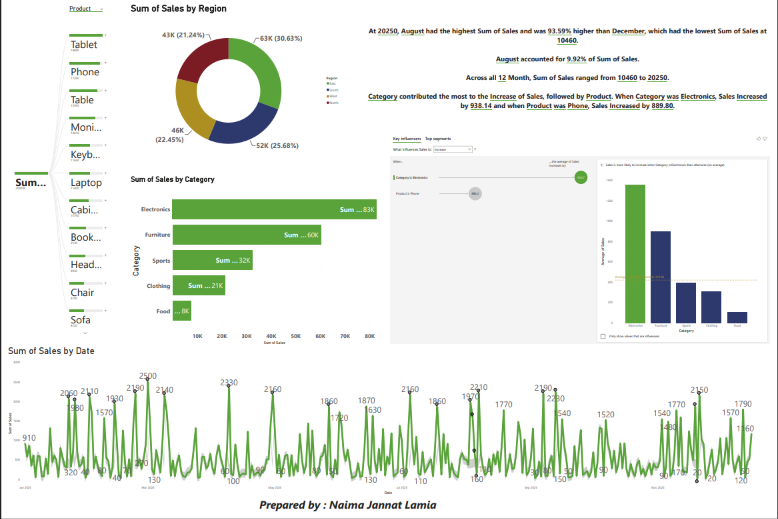

The dashboard page shown, as its layout file describes it:
{"tool":"powerbi","page":{"name":"AI Dashboard","canvas":[3000,2000],"ordinal":0},"visuals":[{"type":"keyDriversVisual","fields":{"Target":["SalesData.Sales"],"ExplainBy":["SalesData.Category","SalesData.Product","SalesData.Region","SalesData.Customer Segment"]},"box":[1497.8,508.3,1500,835],"z":0},{"type":"clusteredBarChart","fields":{"Category":["SalesData.Category"],"Y":["Sum(SalesData.Sales)"]},"box":[481.3,674.7,994,670.2],"z":1000},{"type":"lineChart","fields":{"Y":["Sum(SalesData.Sales)"],"Category":["SalesData.Date"]},"box":[0,1344.8,2950.6,589.2],"z":2000},{"type":"donutChart","fields":{"Category":["SalesData.Region"],"Y":["Sum(SalesData.Sales)"]},"box":[481.3,0,841.1,638.7],"z":3000},{"type":"textbox","box":[1398.8,85.5,1601.2,422.8],"z":4000},{"type":"decompositionTreeVisual","fields":{"Analyze":["Sum(SalesData.Sales)"],"ExplainBy":["SalesData.Product","SalesData.Category","SalesData.Region"]},"box":[0,0,481.3,1344.9],"z":5000},{"type":"textbox","box":[427.3,1934.1,1821.6,67.5],"z":6000}]}

Visuals, with their boxes in screenshot pixels (x1, y1, x2, y2), scaled from the page's 3000x2000 canvas onto the 778x519 screenshot:
keyDriversVisual - SalesData.Sales x SalesData.Category: bbox(388, 132, 777, 349)
clusteredBarChart - SalesData.Category x Sum(SalesData.Sales): bbox(125, 175, 383, 349)
lineChart - Sum(SalesData.Sales) x SalesData.Date: bbox(0, 349, 765, 502)
donutChart - SalesData.Region x Sum(SalesData.Sales): bbox(125, 0, 343, 166)
textbox: bbox(363, 22, 777, 132)
decompositionTreeVisual - Sum(SalesData.Sales) x SalesData.Product: bbox(0, 0, 125, 349)
textbox: bbox(111, 502, 583, 518)
